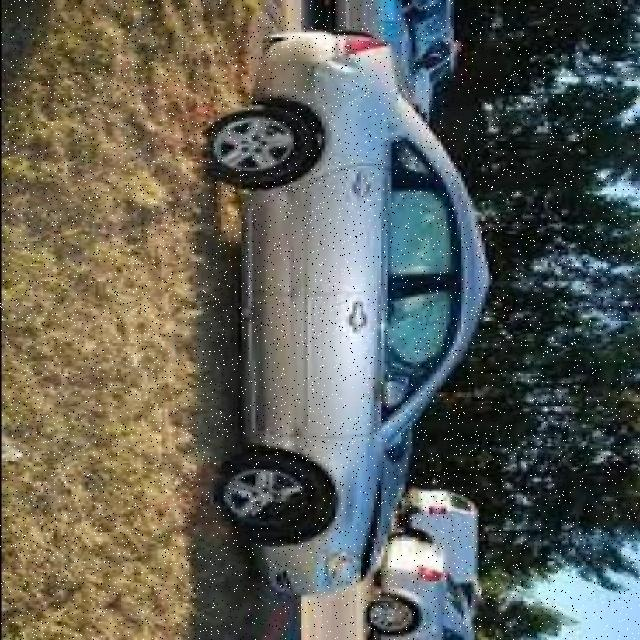damage: (262, 183, 316, 451), (350, 474, 393, 579), (309, 49, 365, 84)
